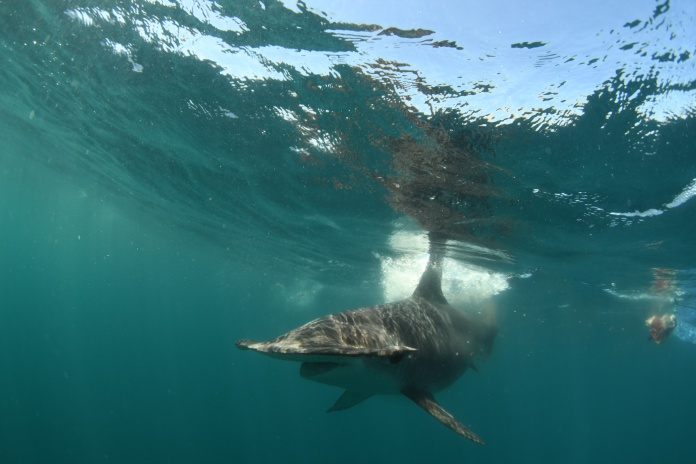Hammer: (236, 237, 510, 452)
